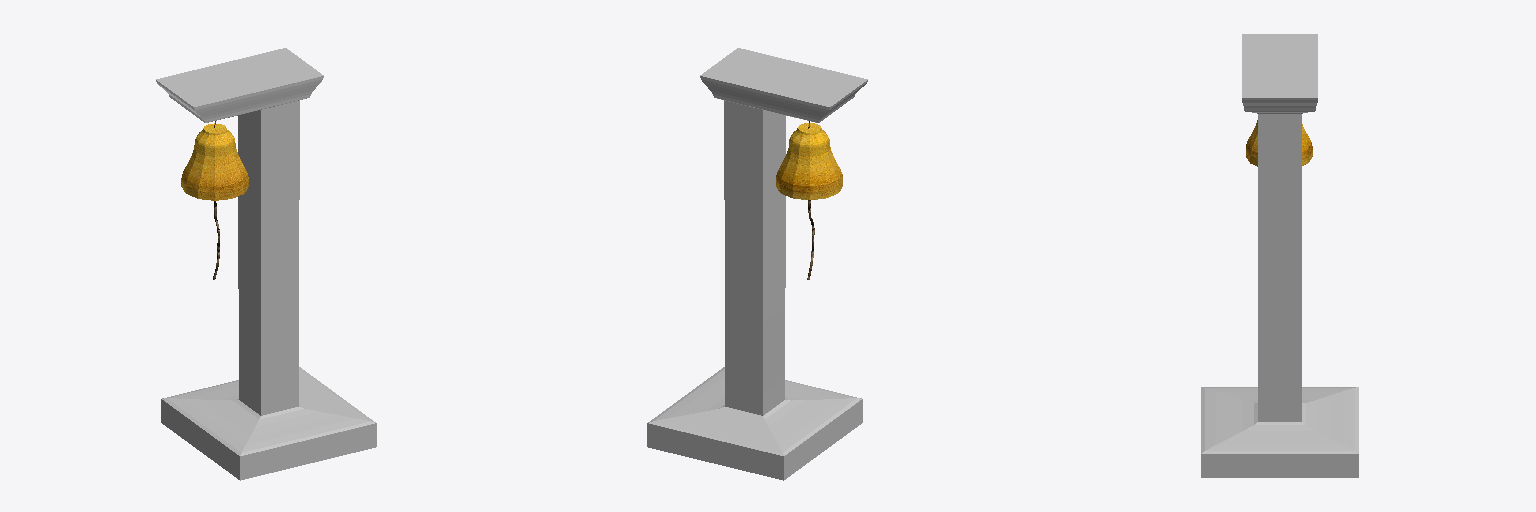
The picture shows the model from 3 angles: view 1: azimuth 30°, elevation 25°; view 2: azimuth 150°, elevation 25°; view 3: azimuth 270°, elevation 25°; orthographic projection.
Parts seen in each view (by area): view 1: Loft036, Loft057; view 2: Loft036, Loft057; view 3: Loft036, Loft057.
Part boxes in pixels (x1,y1,x2,y2): Loft036: (156,48,376,480); Loft057: (181,123,248,200); Loft036: (647,48,867,480); Loft057: (776,123,842,199); Loft036: (1201,34,1358,477); Loft057: (1246,120,1312,166).
Bounding box in the file's own units: 26.24 × 56.29 × 22.06.
Materials: 3 (2 with a texture image).